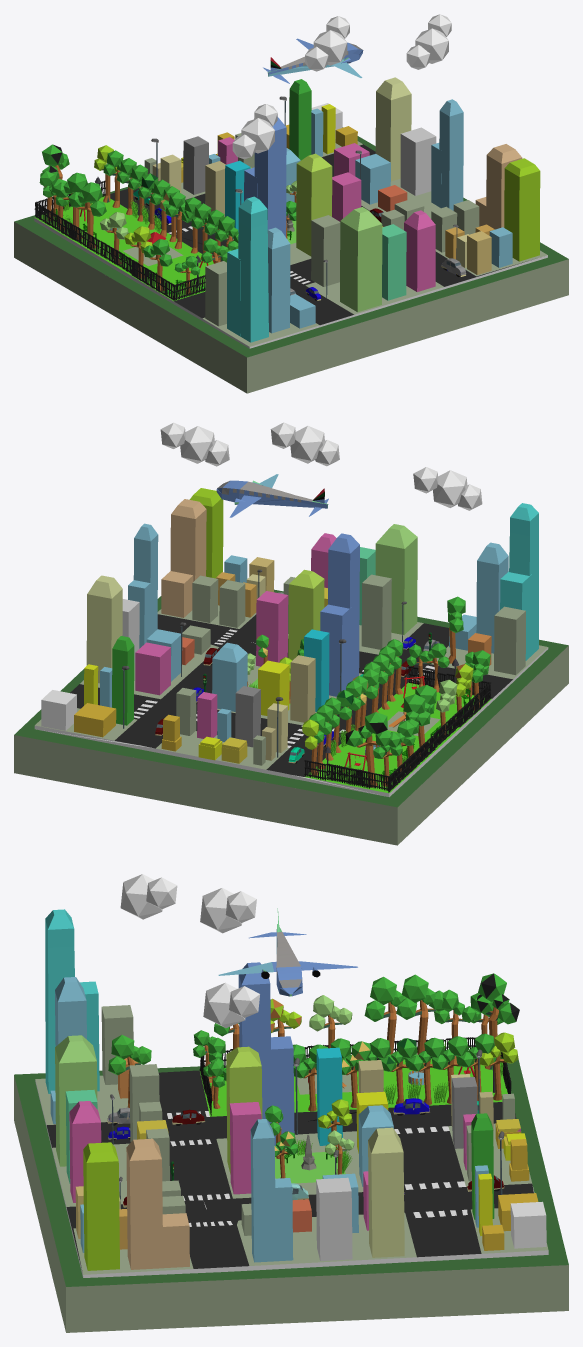
The model's file is metropoli.fbx.
The picture shows the model from 3 angles, top to bottom: view 1: azimuth 30°, elevation 25°; view 2: azimuth 150°, elevation 25°; view 3: azimuth 270°, elevation 25°; orthographic projection. The views are drawn at different scales.
Visible parts, largest first — view 1: prim8, prim0, prim1, prim3, prim7, prim4, prim6, prim2; view 2: prim8, prim1, prim3, prim0, prim7, prim2, prim6, prim4; view 3: prim8, prim1, prim3, prim0, prim7, prim2, prim6, prim4, prim5.
Part boxes in pixels (left/top/right/bottom): prim8: left=14, top=14, right=568, bottom=393; prim0: left=80, top=145, right=540, bottom=342; prim1: left=34, top=43, right=531, bottom=325; prim3: left=14, top=58, right=568, bottom=357; prim7: left=160, top=57, right=522, bottom=295; prim4: left=34, top=60, right=310, bottom=301; prim6: left=154, top=104, right=460, bottom=299; prim2: left=55, top=38, right=382, bottom=289; prim8: left=14, top=422, right=568, bottom=845; prim1: left=70, top=481, right=512, bottom=792; prim3: left=14, top=557, right=568, bottom=807; prim0: left=189, top=488, right=538, bottom=771; prim7: left=74, top=488, right=439, bottom=752; prim2: left=155, top=480, right=470, bottom=780; prim6: left=84, top=569, right=439, bottom=763; prim4: left=134, top=492, right=491, bottom=793; prim8: left=14, top=874, right=568, bottom=1332; prim1: left=46, top=973, right=533, bottom=1270; prim3: left=14, top=929, right=568, bottom=1286; prim0: left=45, top=909, right=518, bottom=1270; prim7: left=107, top=1070, right=538, bottom=1269; prim2: left=123, top=908, right=503, bottom=1205; prim6: left=108, top=1046, right=526, bottom=1236; prim4: left=167, top=970, right=507, bottom=1226; prim5: left=110, top=1049, right=504, bottom=1183.
Bounding box in the file's own units: 1592 × 1080 × 1592.
